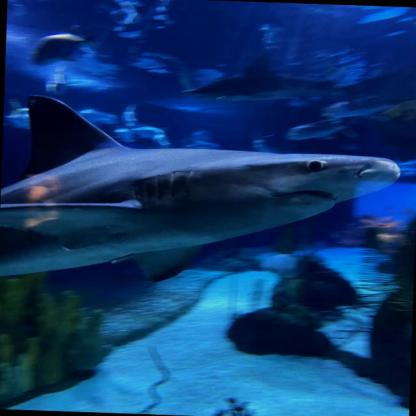fish: (29, 29, 95, 69)
shark: (0, 93, 405, 291), (179, 53, 400, 110)
